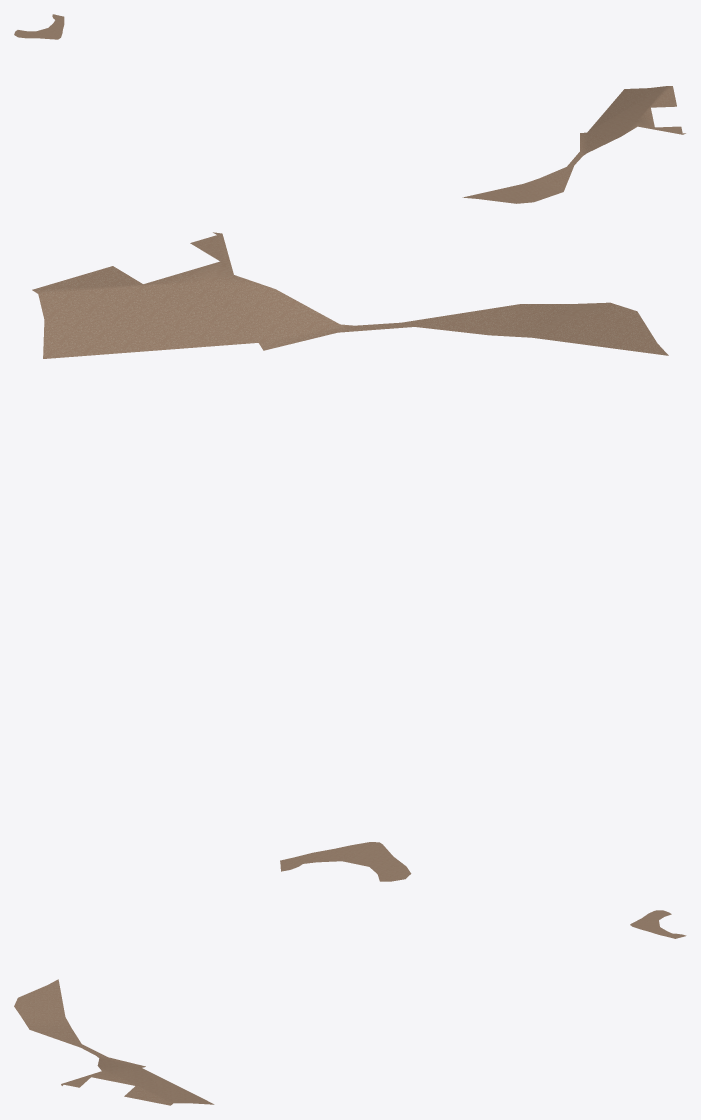
File: kd_stage_135ebf_2_31.glb
3 renders of one model, top to bottom at view 1: azimuth 30°, elevation 25°; view 2: azimuth 150°, elevation 25°; view 3: azimuth 270°, elevation 25°, orthographic. The views are drawn at different scales.
Parts seen in each view (by area): view 1: kd_stage_135ebf_2_31; view 2: kd_stage_135ebf_2_31; view 3: kd_stage_135ebf_2_31.
Boxes of the visible parts, box(x1,y1,x2,y2) form: kd_stage_135ebf_2_31: box(14, 14, 685, 203); kd_stage_135ebf_2_31: box(32, 232, 668, 881); kd_stage_135ebf_2_31: box(14, 910, 686, 1105).
Bounding box in the file's own units: 79.21 × 3.35 × 105.
1 material, 1 textured.
